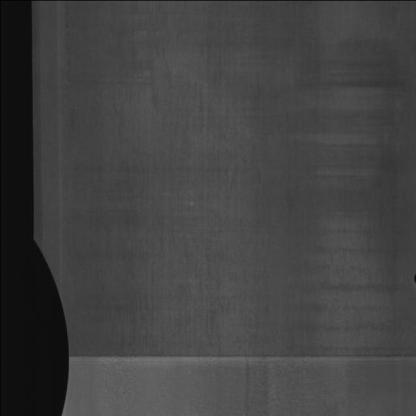crescent_gap: (30, 229, 74, 416)
punching_hole: (412, 271, 416, 285)
welding_line: (65, 334, 416, 365)
